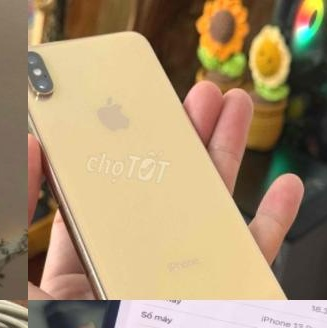scratch: (0, 323, 10, 328)
